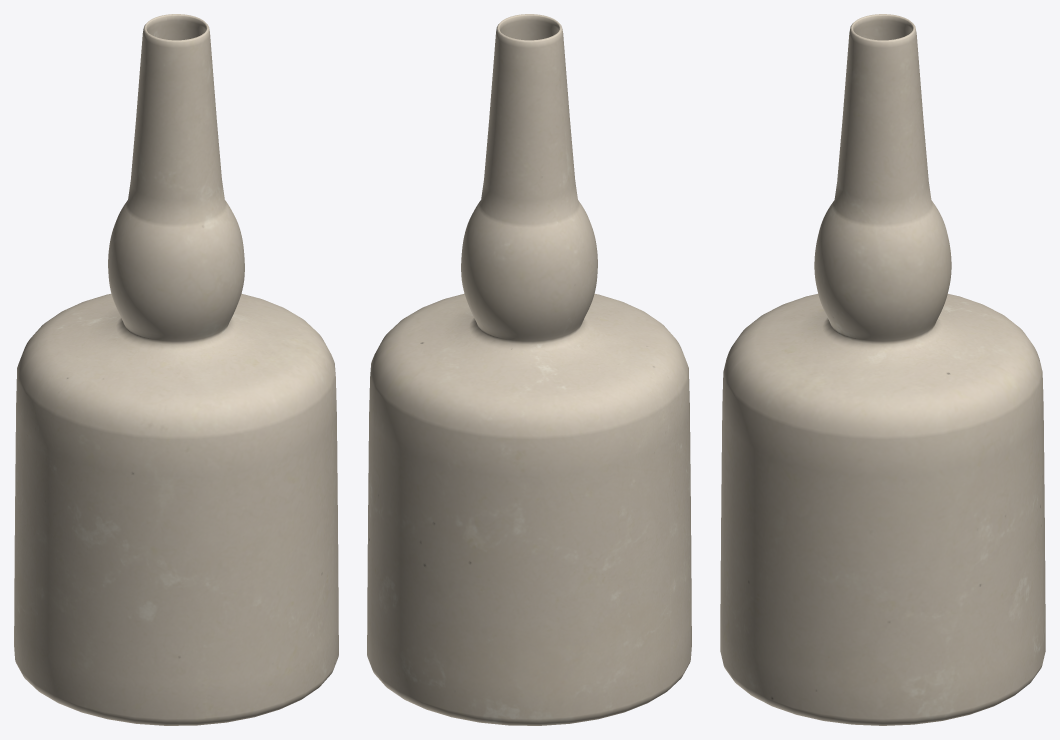
Rendered from Scultura4.fbx.
The picture shows the model from 3 angles, left to right: view 1: azimuth 30°, elevation 25°; view 2: azimuth 150°, elevation 25°; view 3: azimuth 270°, elevation 25°; orthographic projection.
Parts seen in each view (by area): view 1: Scultura4; view 2: Scultura4; view 3: Scultura4.
Boxes of the visible parts, x1=… form: Scultura4: x1=14, y1=14, x2=338, y2=725; Scultura4: x1=367, y1=14, x2=691, y2=725; Scultura4: x1=720, y1=14, x2=1045, y2=725.
Size of the model in its own units: 33.33 by 72.03 by 33.33.
